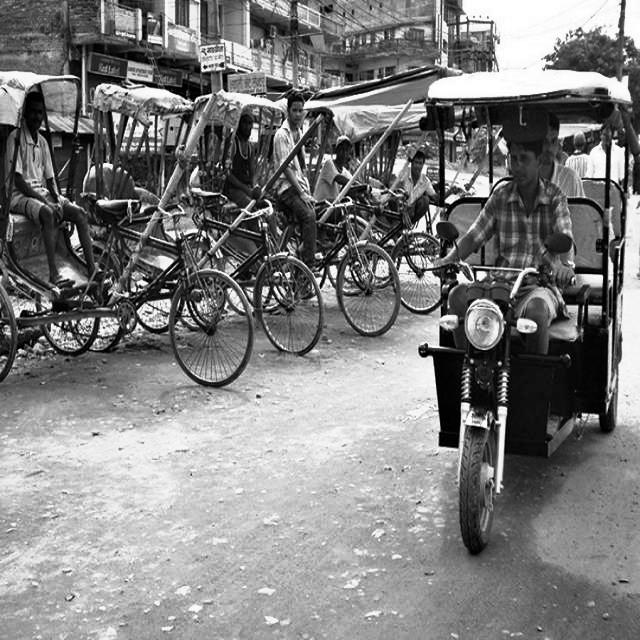Toto: (424, 68, 634, 545)
